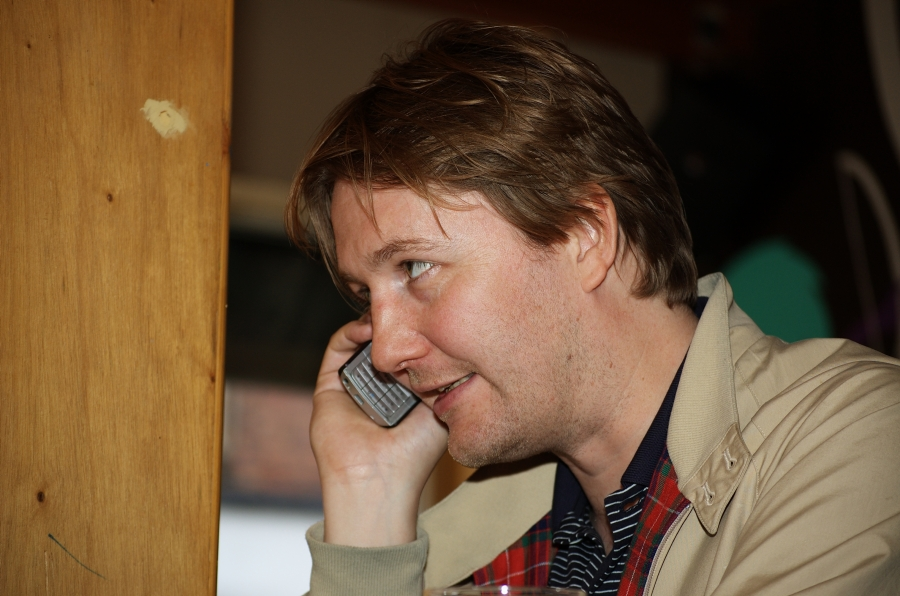phone: (336, 322, 413, 453)
